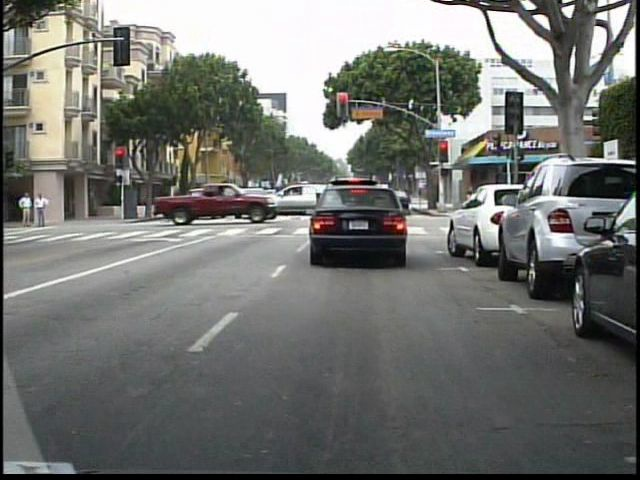person: (33, 190, 51, 229), (17, 188, 33, 229)
